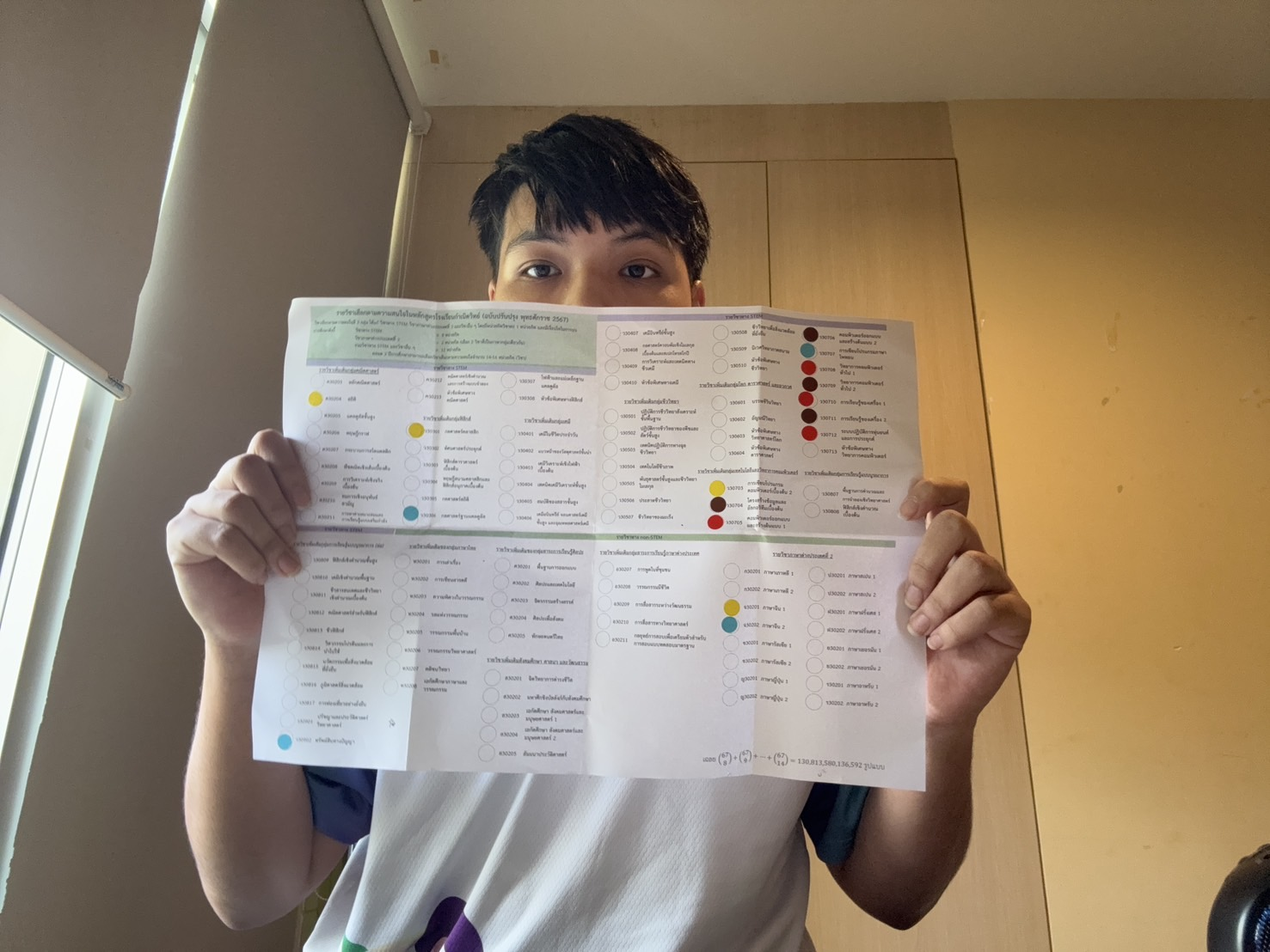paper: (251, 296, 927, 792)
